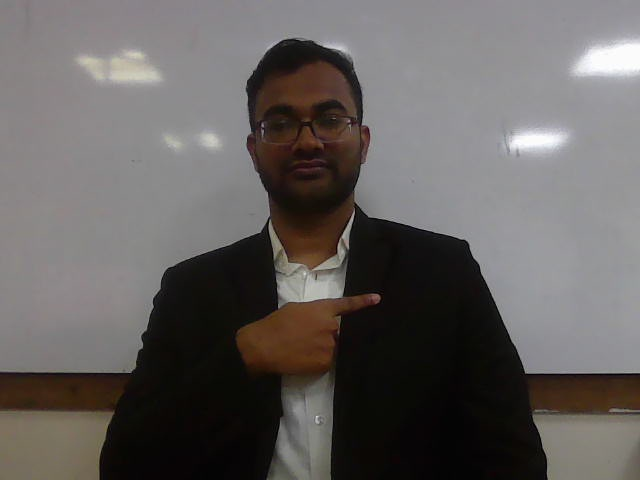Ami: (241, 292, 384, 380)
